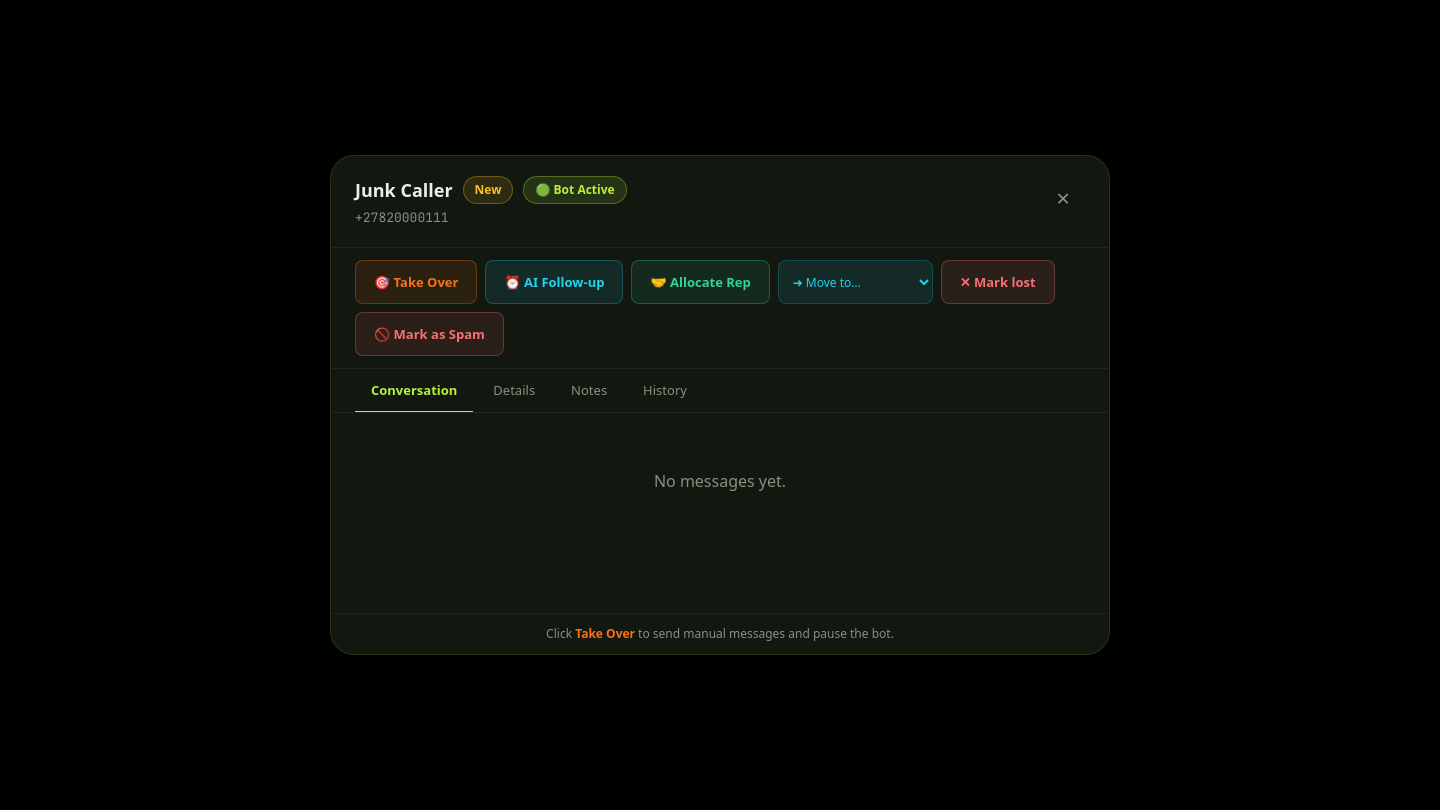
Test: LeadDetailModal — the actions that destroy state › spam › surfaces a failed mark instead of looking successful
Click the button "🚫 Mark as Spam" at (429, 334), box [355, 312, 504, 356]
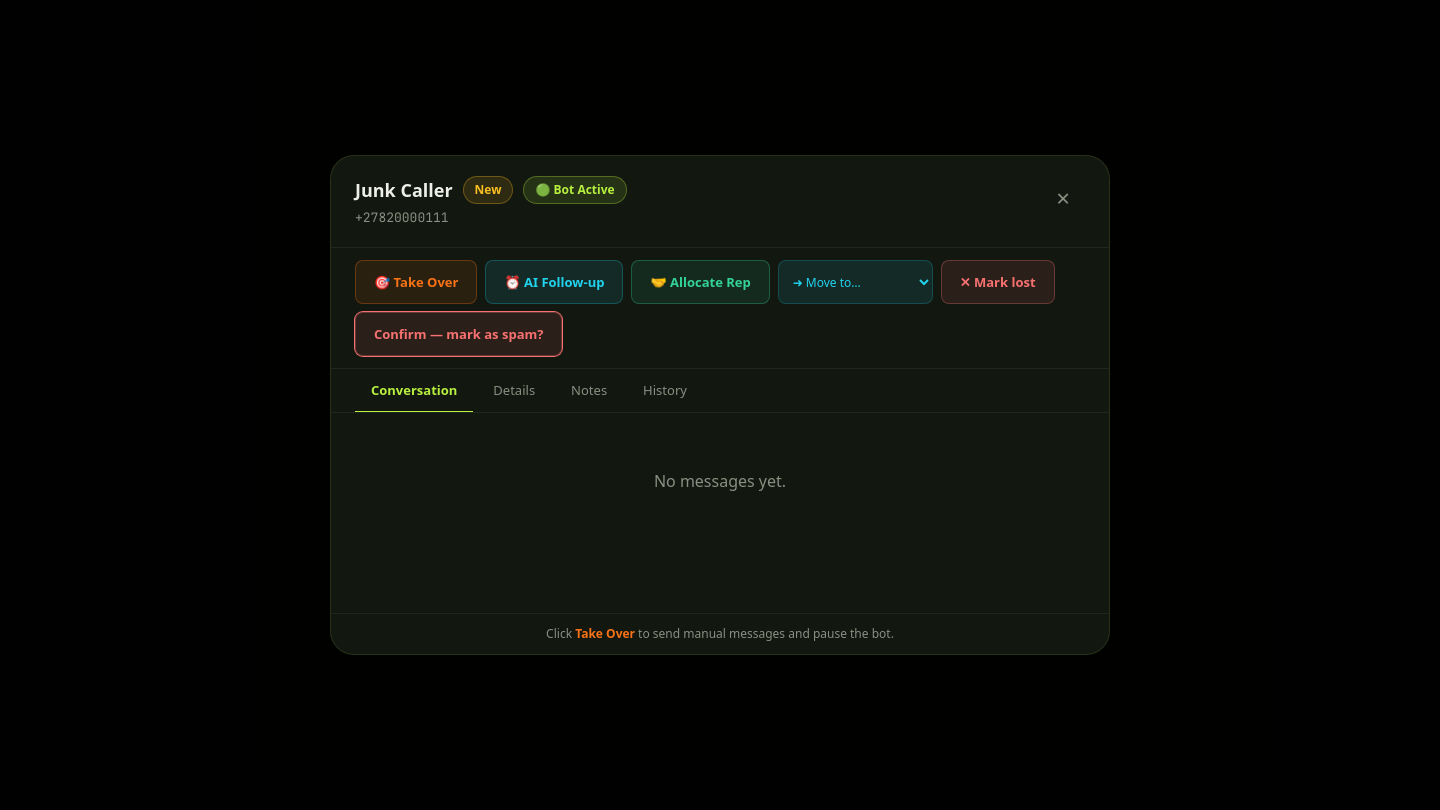
Click the button "Confirm — mark as spam?" at (459, 334), box [355, 312, 562, 356]
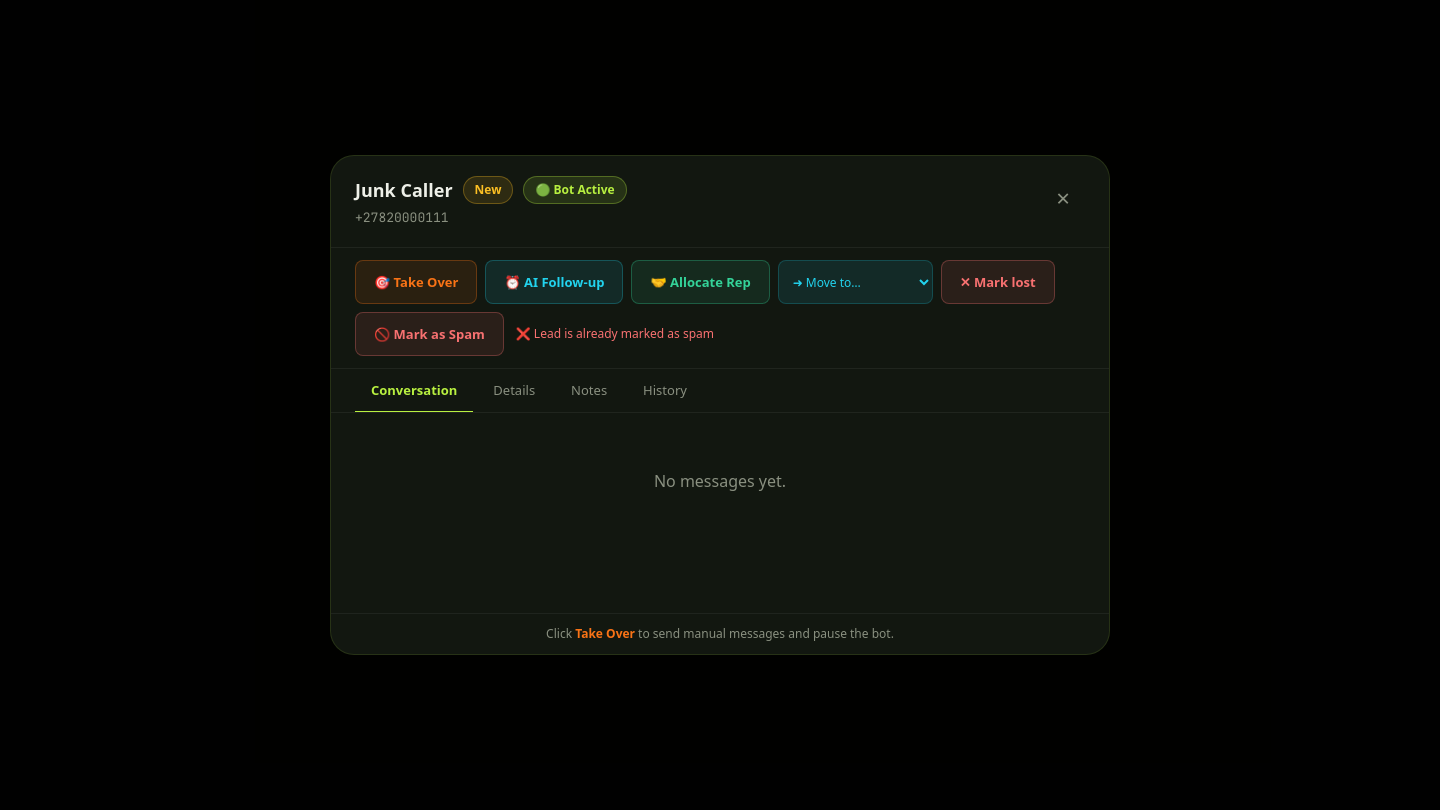
Expected: the text "❌ Lead is already marked as spam" is shown, [516, 326, 714, 342]
